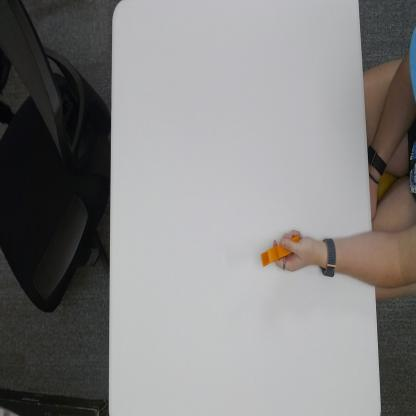Hand: (279, 221, 323, 278)
Screwdriver: (256, 230, 301, 270)
